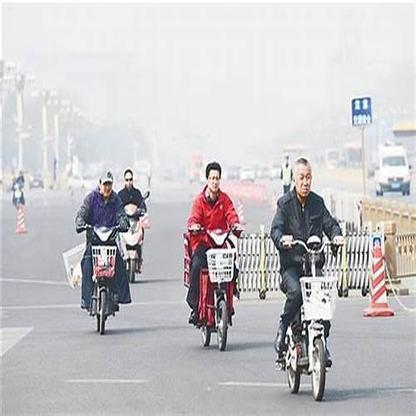target: (268, 158, 345, 403), (183, 161, 247, 353), (81, 172, 127, 335), (120, 169, 152, 283)
